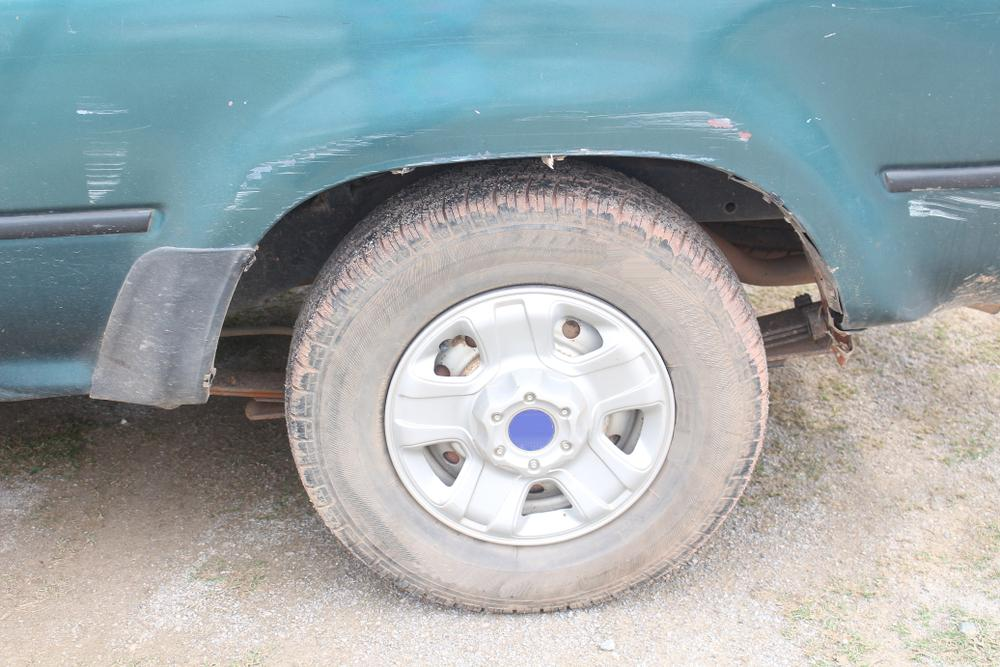scratch: (226, 102, 758, 236), (70, 83, 134, 202), (907, 184, 1000, 224)
